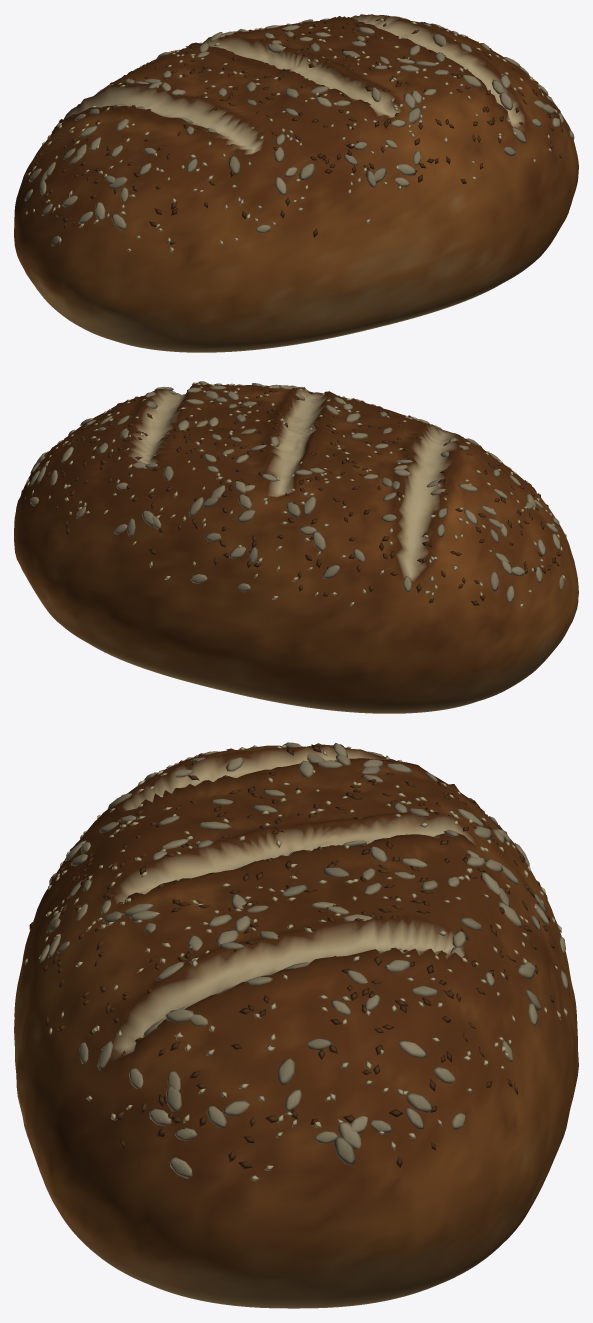
Rendered from kornbrot-1000g.glb.
The picture shows the model from 3 angles, top to bottom: view 1: azimuth 30°, elevation 25°; view 2: azimuth 150°, elevation 25°; view 3: azimuth 270°, elevation 25°; orthographic projection. The views are drawn at different scales.
Parts seen in each view (by area): view 1: kornbrot-1000g; view 2: kornbrot-1000g; view 3: kornbrot-1000g.
Boxes of the visible parts, x1,y1,x2,y2 form: kornbrot-1000g: [14, 14, 578, 352]; kornbrot-1000g: [14, 381, 578, 713]; kornbrot-1000g: [14, 742, 578, 1308].
Size of the model in its own units: 0.2772 by 0.1076 by 0.1764.
